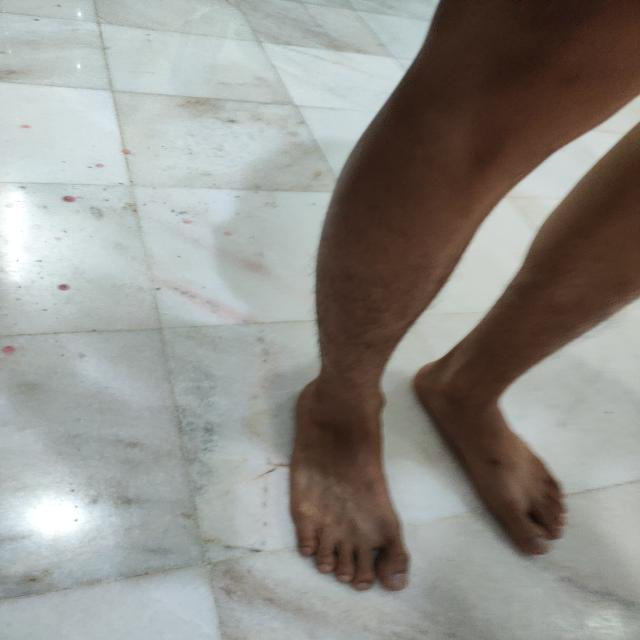No_Shoes: (413, 352, 580, 557), (281, 363, 413, 605)
